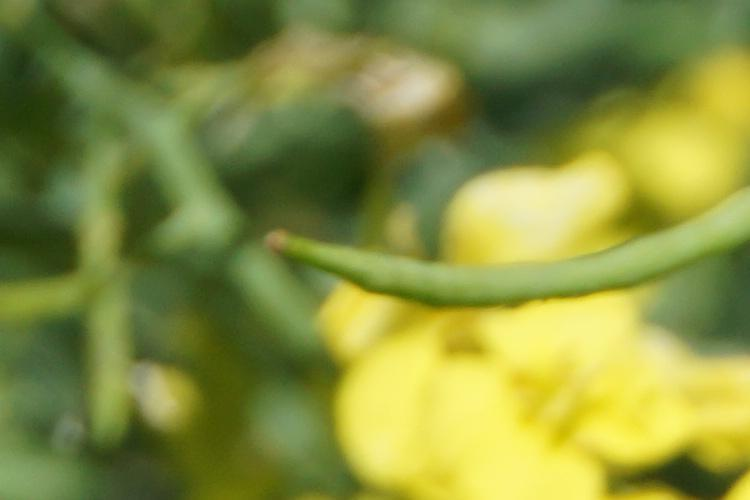pod: (238, 219, 750, 323)
yellow: (363, 152, 736, 496)
